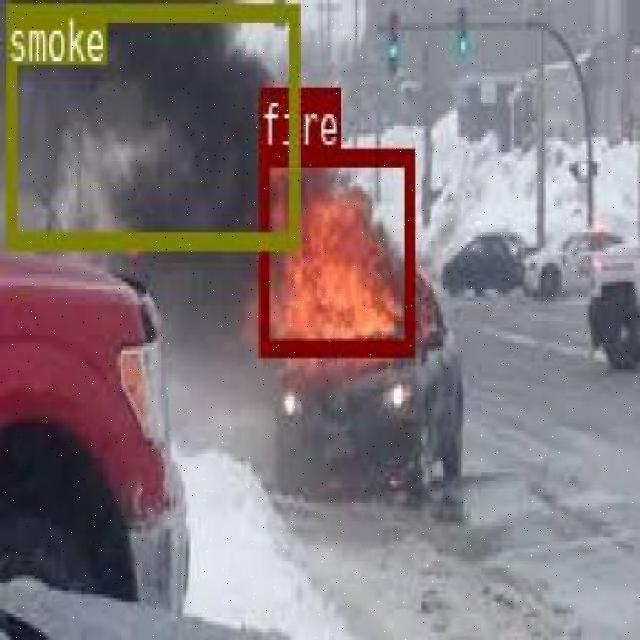Smoke: (5, 1, 298, 247)
